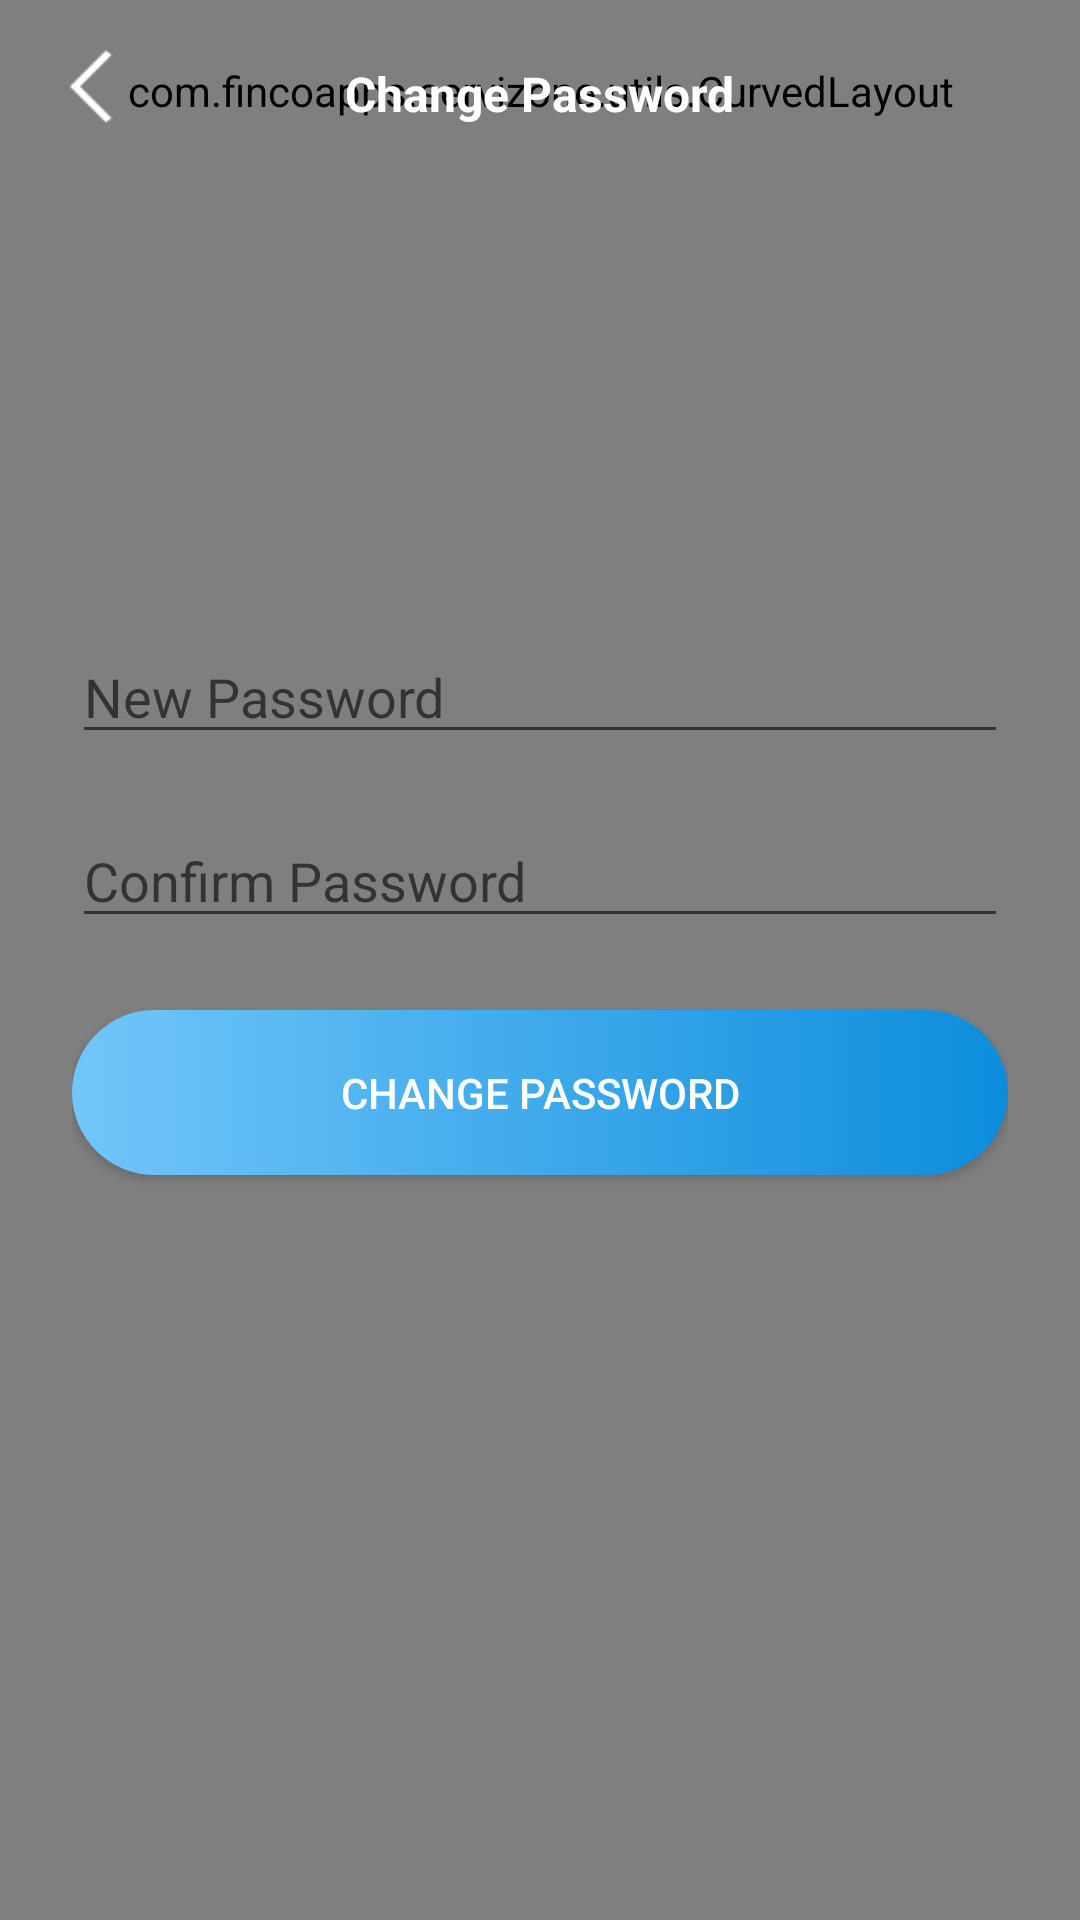

Where icons sit on this 1080×1920 app screen, as (x1, y1, x2, y2):
backbtn: (70, 50, 112, 123)
